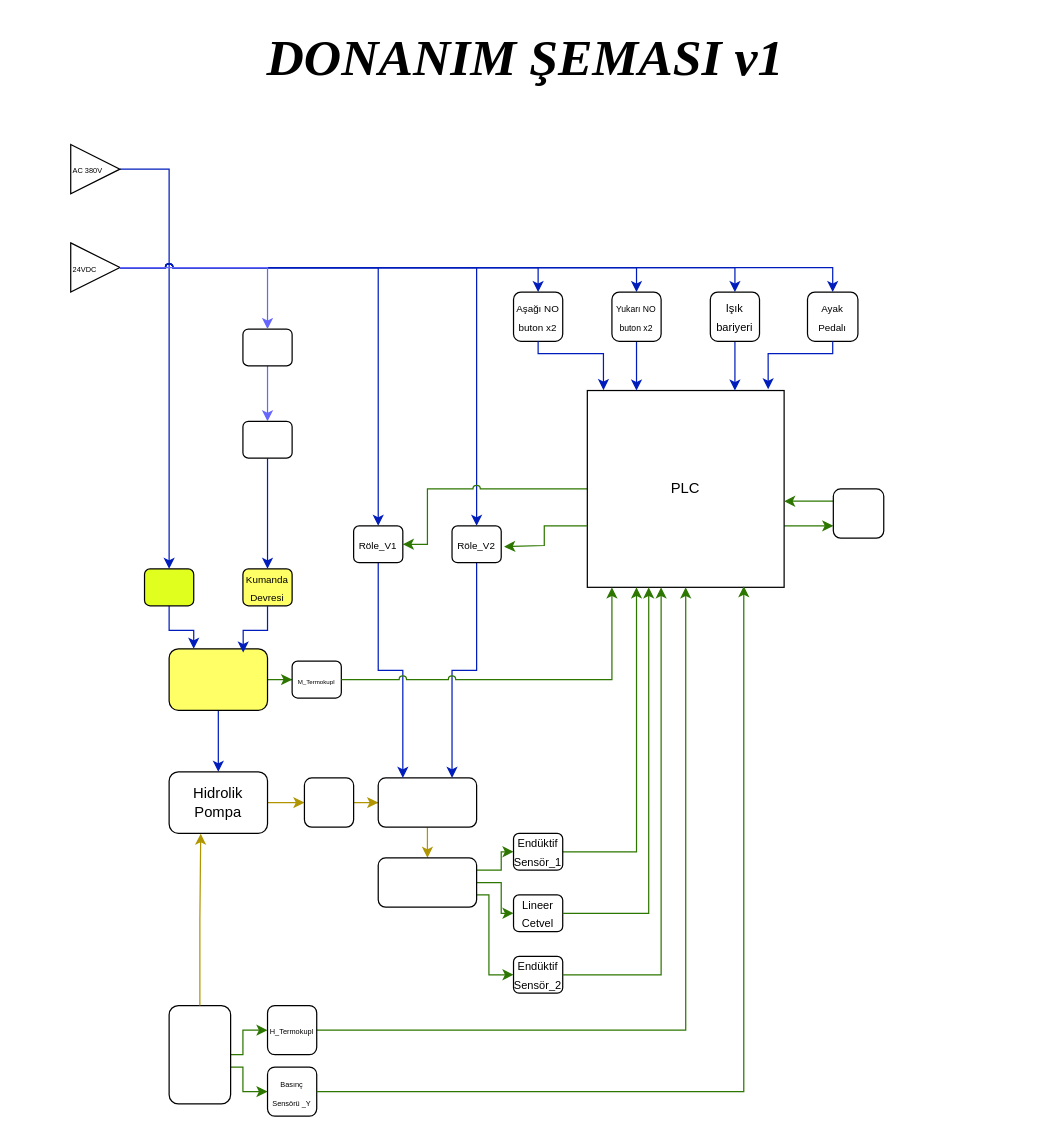
The diagram is 1063 pixels wide and 1138 high, and some of its shapes have lost their labels. Each missing label, with the centre of its shape:
4/3 SOLENOID HİDROLİK VALF: the point at 427,802
Acil STOP Buton: the point at 267,347
Basınç Regülatörü: the point at 328,802
Elektrik motoru: the point at 218,679
Güç Devresi: the point at 168,587
HİDROLİK SİLİNDİR: the point at 427,882
HİDROLİK YAĞ TANKI: the point at 199,1054
HMI: the point at 858,513
Röle_K: the point at 267,439
